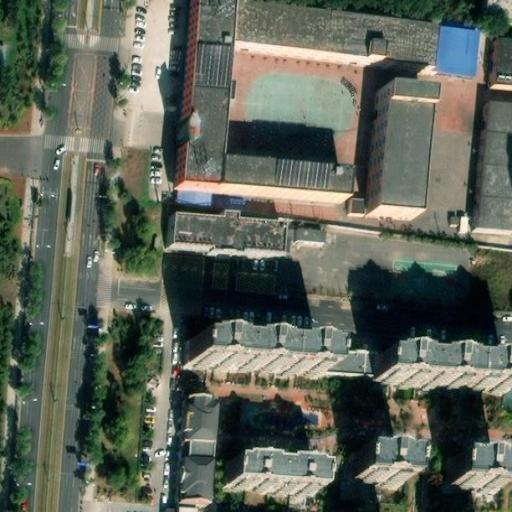building: (173, 0, 341, 195), (222, 3, 434, 71), (366, 88, 424, 216), (162, 217, 280, 262), (375, 353, 512, 389), (325, 349, 512, 375), (190, 337, 326, 372), (478, 99, 512, 229), (180, 395, 218, 502), (226, 458, 320, 488), (437, 24, 482, 75), (171, 185, 242, 211), (446, 458, 500, 488), (349, 453, 402, 482), (232, 269, 278, 295), (490, 35, 512, 83), (292, 225, 326, 246), (485, 0, 512, 22), (179, 500, 200, 512)
